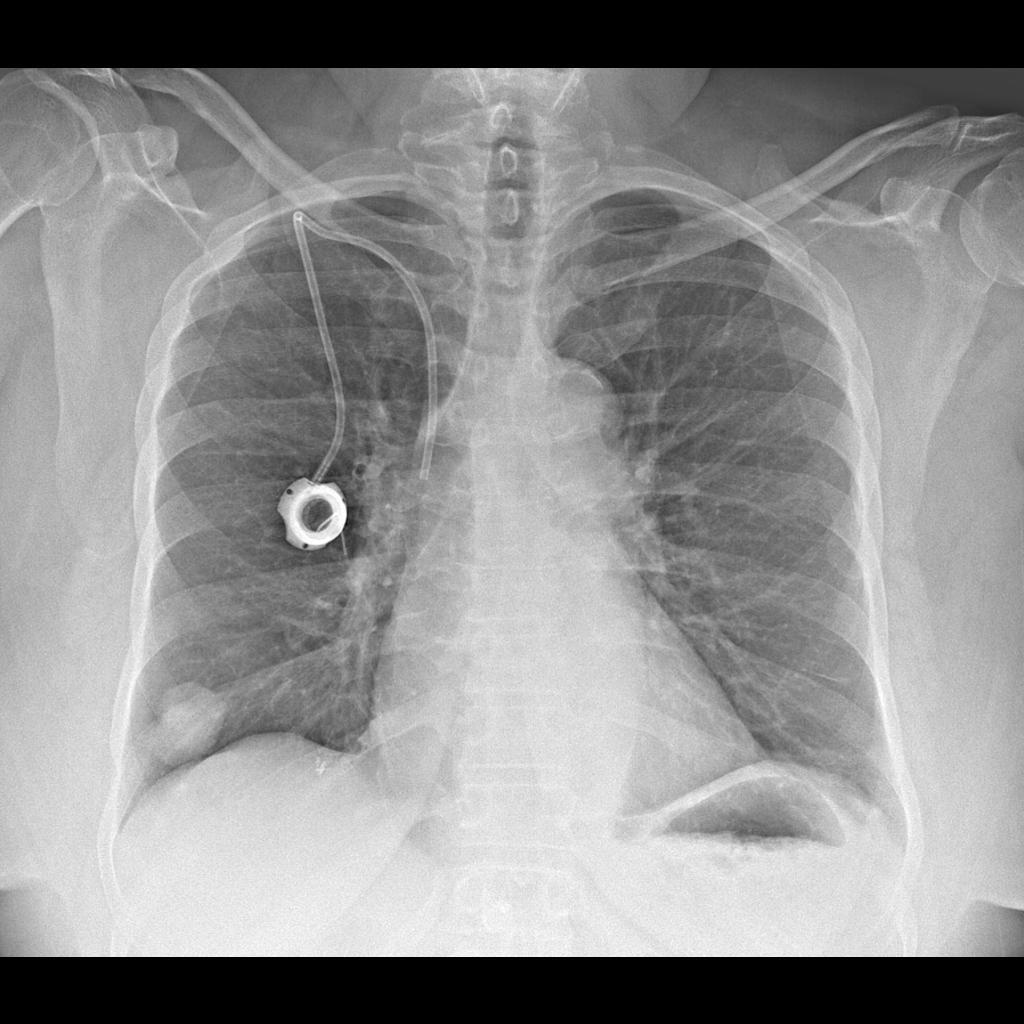Nodule: (150, 676, 231, 769)
